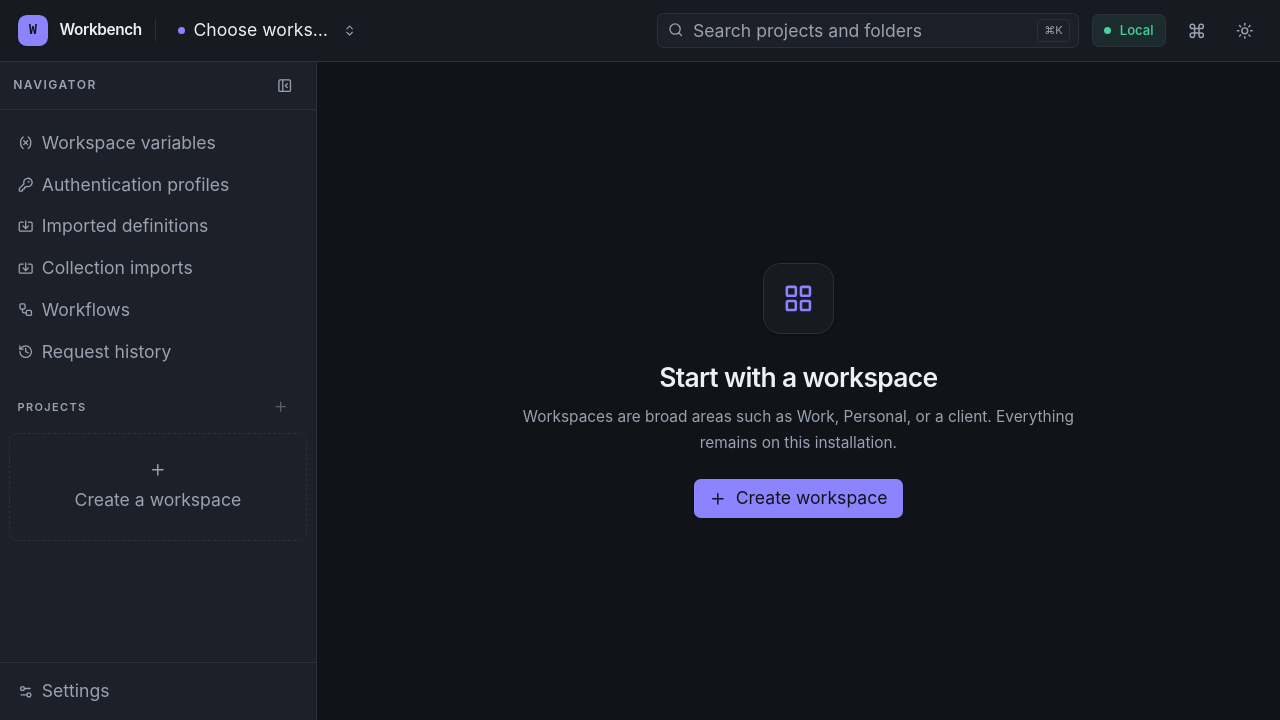
Scenario: WorkbenchShell › guides an empty installation into workspace creation
This screenshot has width=1280, height=720.
Expected: the heading "Start with a workspace" is shown, [659,361,938,393]
What coordinates should you click on to do the following:
click the button "Create workspace"
I would click on:
 (798, 499)
Its box is [694,479,903,518].
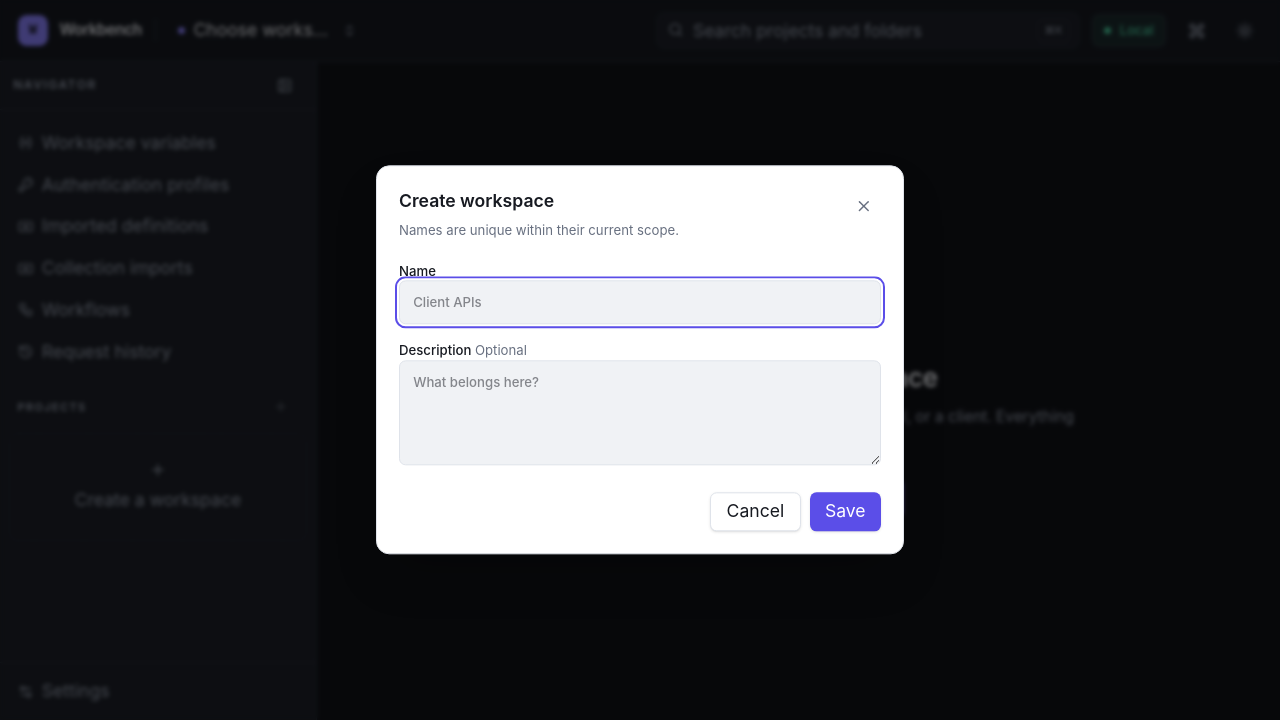
Expected: the dialog "Create workspace" is shown, [376,165,904,555]
